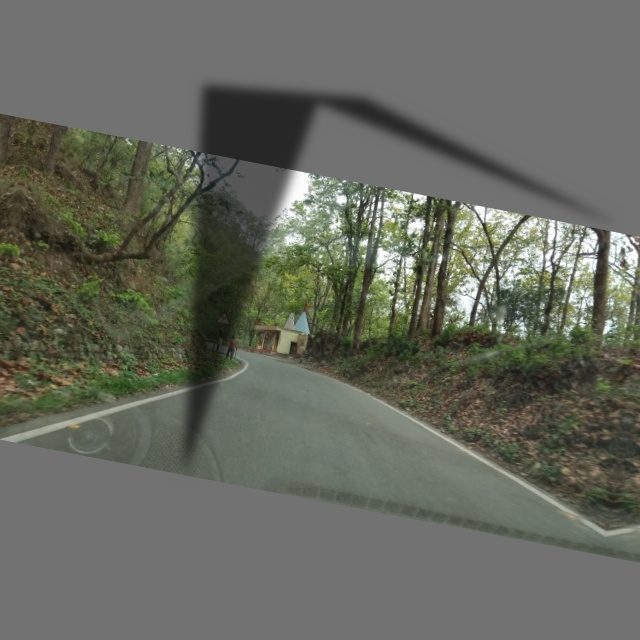Narrow_Bridge: (214, 303, 235, 328)
